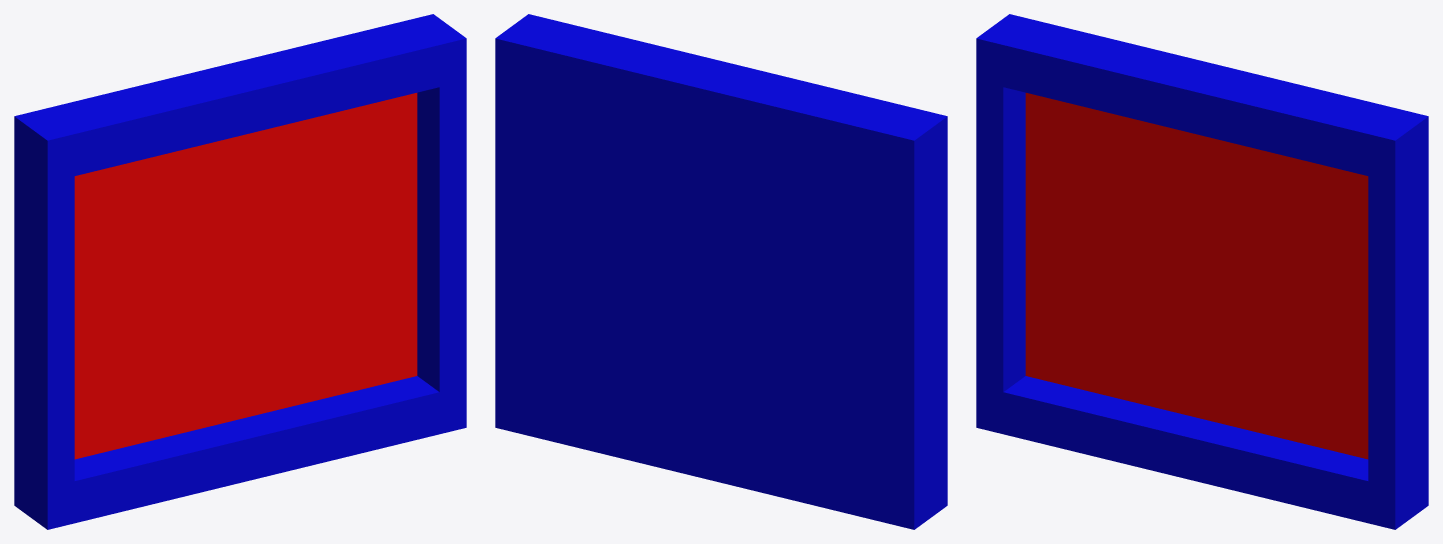
File: Painting2.fbx
The picture shows the model from 3 angles, left to right: view 1: azimuth 30°, elevation 25°; view 2: azimuth 150°, elevation 25°; view 3: azimuth 330°, elevation 25°; orthographic projection.
Visible parts, largest first — view 1: Cuadro002; view 2: Cuadro002; view 3: Cuadro002.
Boxes of the visible parts, x1=… form: Cuadro002: x1=14, y1=14, x2=466, y2=529; Cuadro002: x1=495, y1=14, x2=947, y2=529; Cuadro002: x1=976, y1=14, x2=1428, y2=529.
Bounding box in the file's own units: 0.5 × 0.4437 × 0.069.
